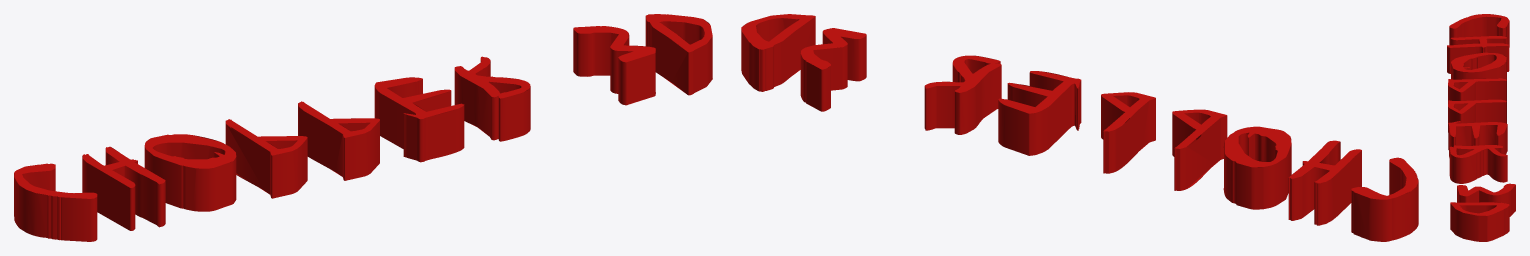
Rendered from chopper3d.glb.
3 renders of one model, left to right at view 1: azimuth 30°, elevation 25°; view 2: azimuth 150°, elevation 25°; view 3: azimuth 270°, elevation 25°, orthographic. The views are drawn at different scales.
Visible parts, largest first — view 1: Chopper3D; view 2: Chopper3D; view 3: Chopper3D.
Part boxes in pixels (<box>): Chopper3D: <box>14,14,712,241</box>; Chopper3D: <box>741,14,1418,241</box>; Chopper3D: <box>1447,14,1515,241</box>.
Size of the model in its own units: 4.66 by 0.28 by 0.6719.
1 material, 1 textured.
